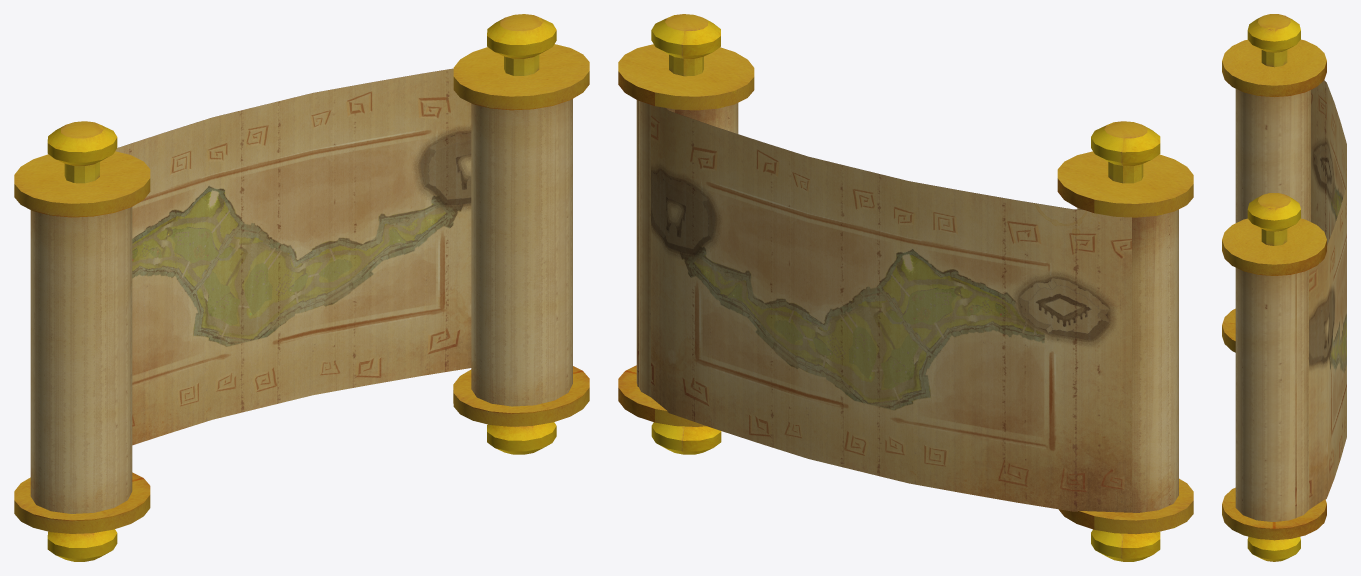
Rendered from Map_Scroll.fbx.
3 renders of one model, left to right at view 1: azimuth 30°, elevation 25°; view 2: azimuth 150°, elevation 25°; view 3: azimuth 270°, elevation 25°, orthographic. The views are drawn at different scales.
Visible parts, largest first — view 1: polySurface35; view 2: polySurface35; view 3: polySurface35.
Boxes of the visible parts, <box> form: polySurface35: <box>14,14,589,561</box>; polySurface35: <box>618,14,1193,561</box>; polySurface35: <box>1222,14,1346,561</box>.
Bounding box in the file's own units: 277 × 202 × 63.78.
